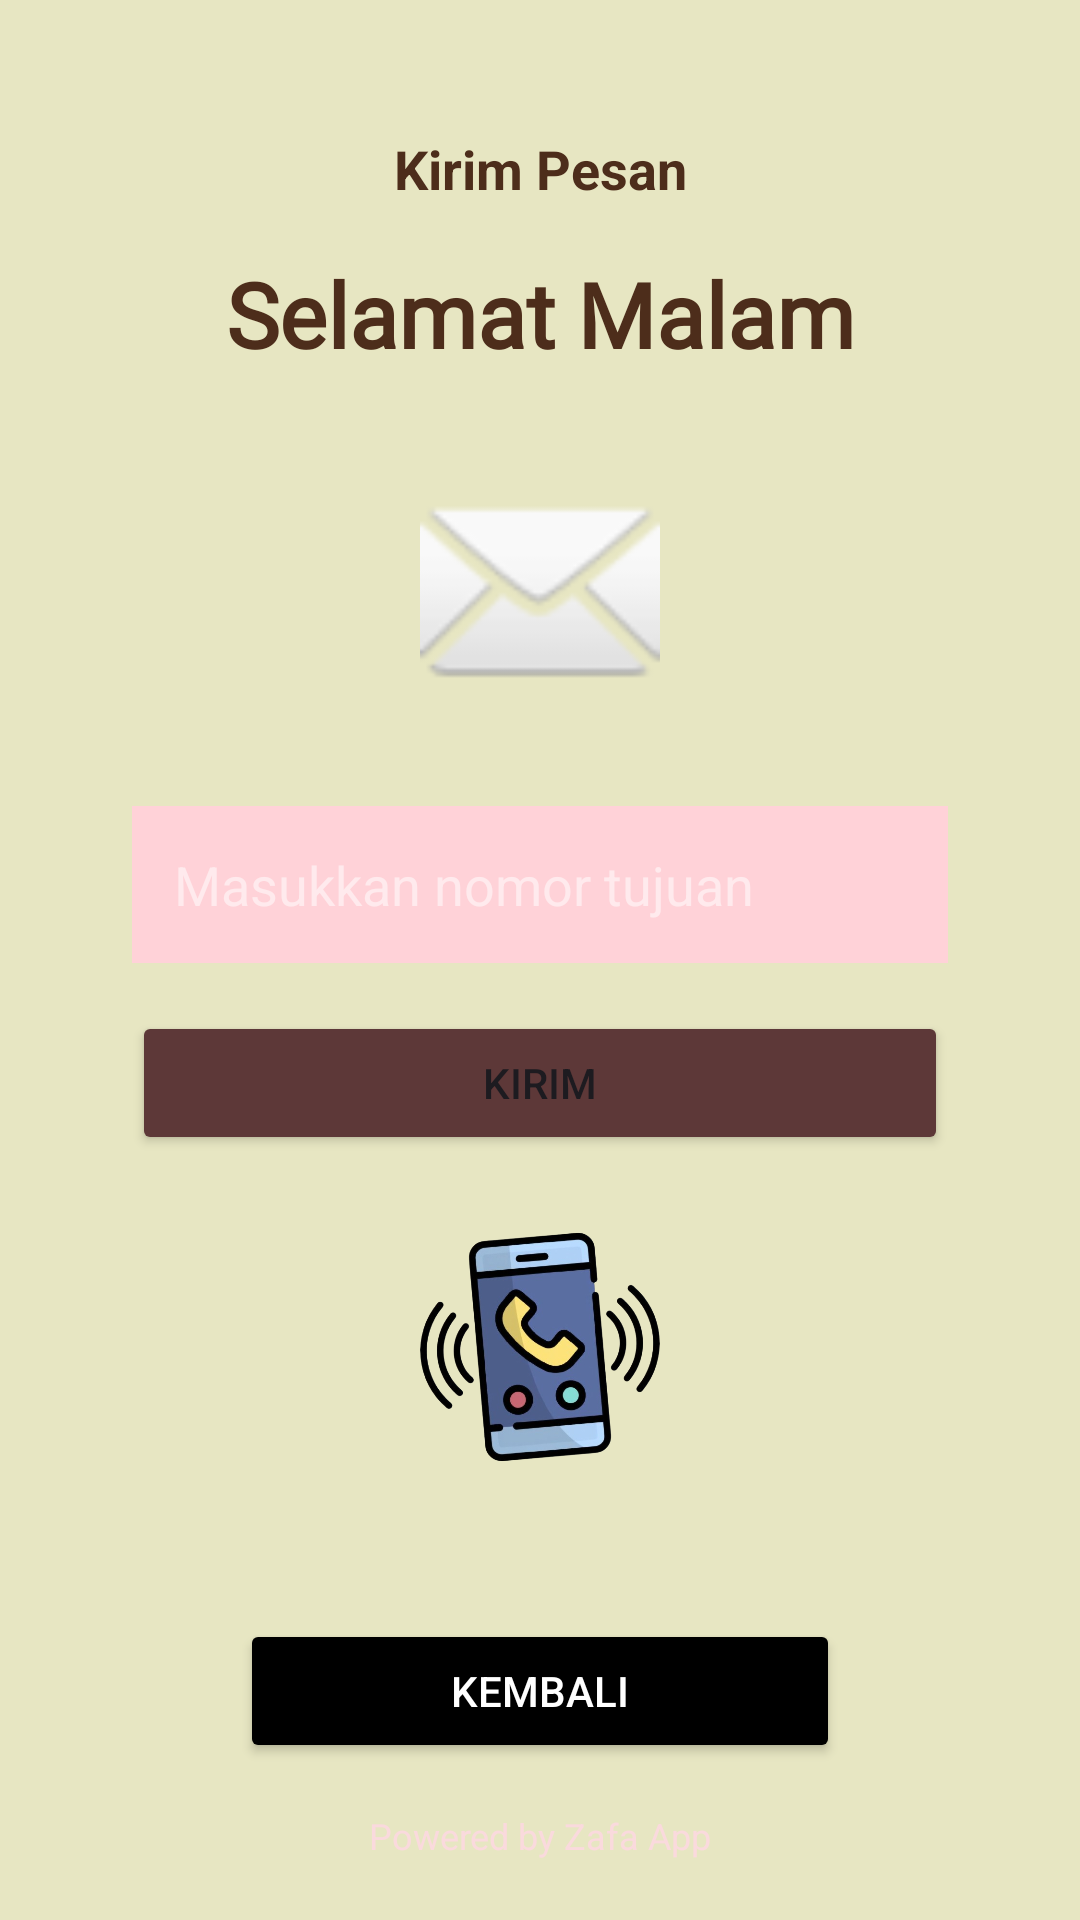

Where to tap for icons on this 1080px x 1920px app screen, as point (x, y):
email: point (540, 593)
phone: point (540, 1347)
